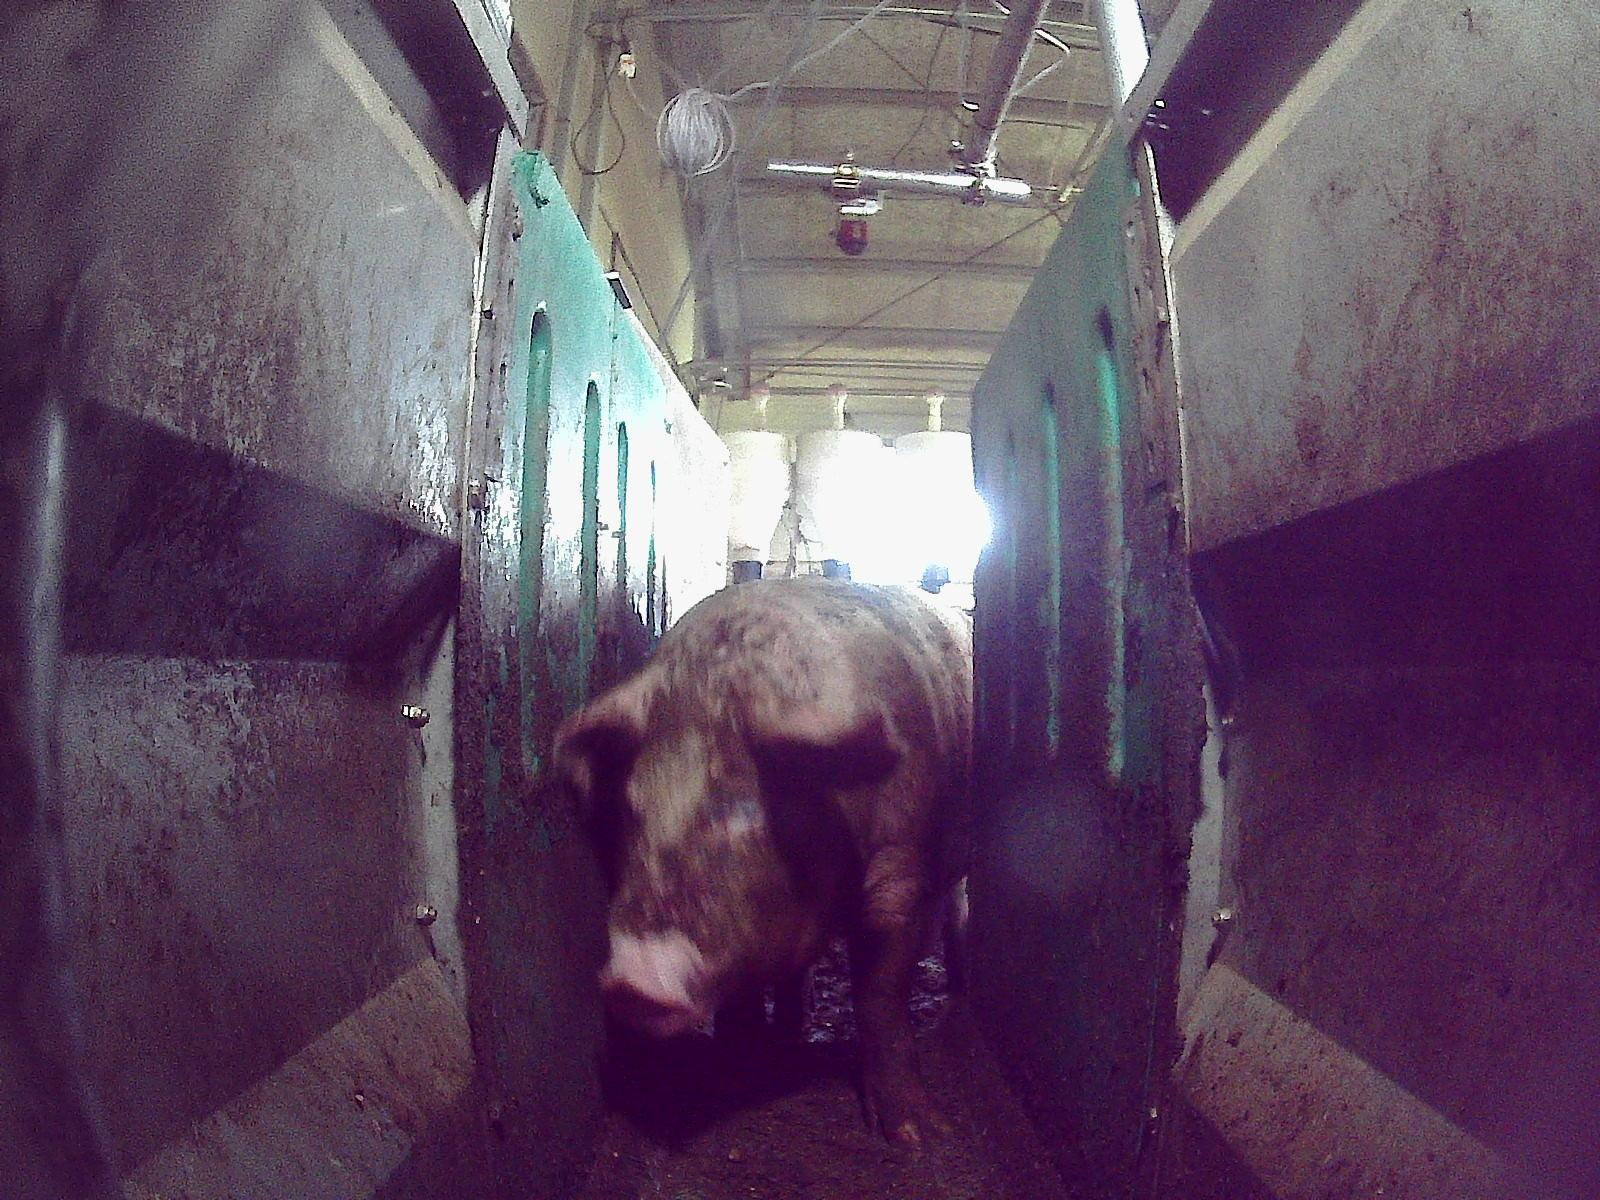Face: (591, 653, 839, 1033)
